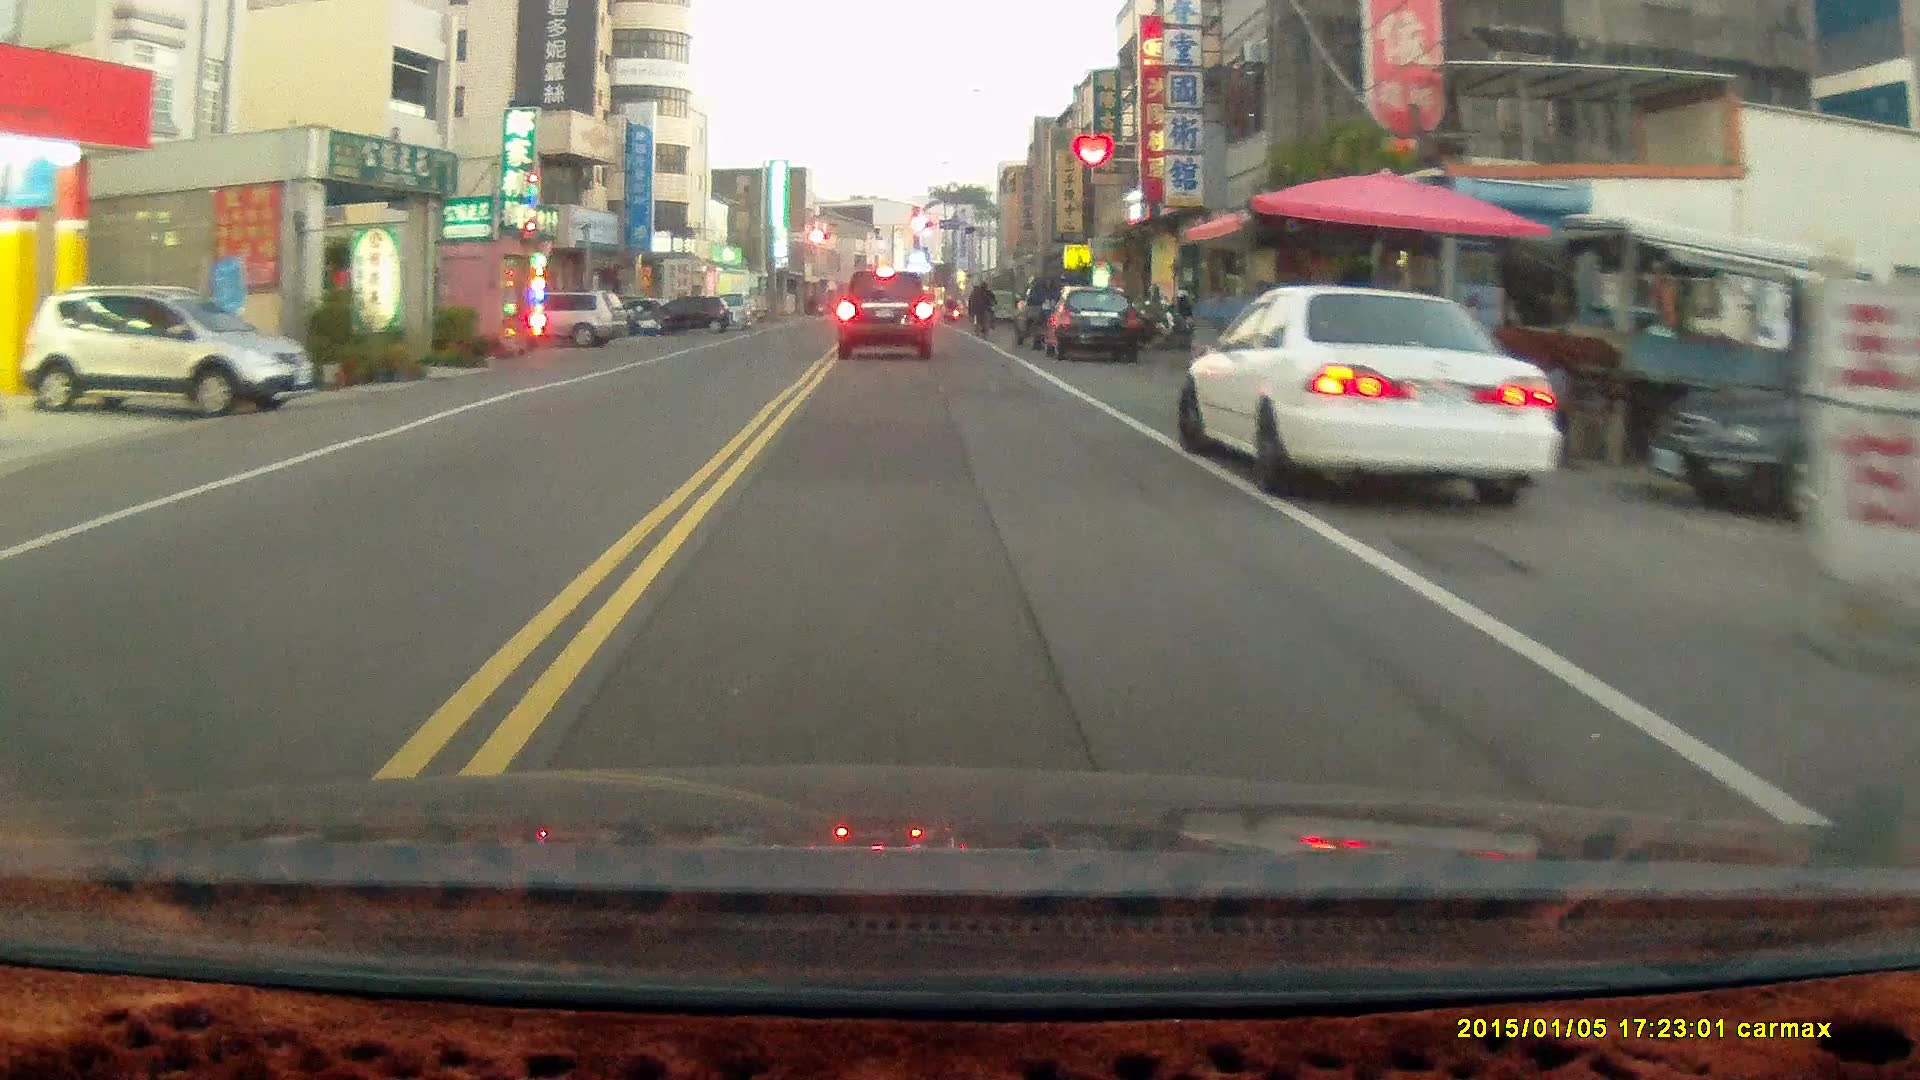rider: (969, 275, 997, 340)
vehicle: (1180, 278, 1562, 504), (1643, 338, 1920, 530), (18, 286, 314, 417), (841, 269, 935, 362), (1047, 284, 1148, 359), (521, 291, 627, 346)
